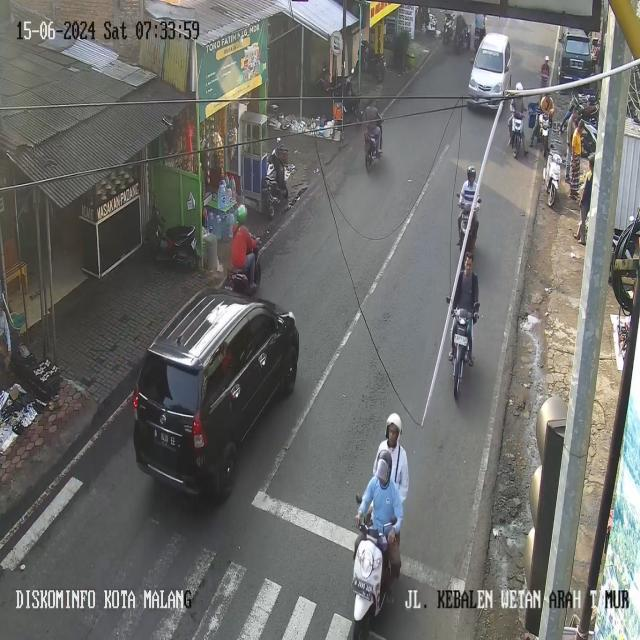Helmet: (376, 449, 391, 486), (385, 413, 401, 437), (236, 204, 246, 224), (467, 166, 475, 180), (588, 95, 596, 105), (515, 82, 523, 90), (544, 55, 549, 61)
Number Plate: (352, 577, 373, 600), (154, 428, 177, 449), (454, 334, 467, 345), (191, 237, 195, 249)
